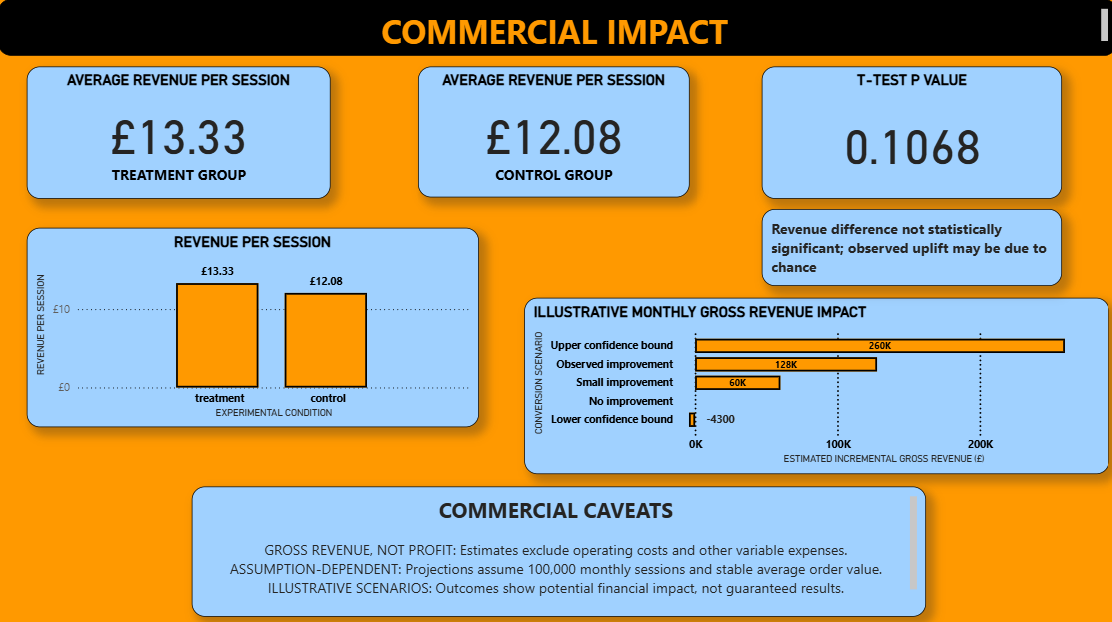

Layout of this report page (visuals, bound fields, positions):
{"tool":"powerbi","page":{"name":"COMMERCIAL IMPACT","canvas":[1280,720],"ordinal":2},"visuals":[{"type":"textbox","box":[0,0,1279.8,65],"z":0},{"type":"card","title":"T-TEST P VALUE","fields":{"Values":["Sum(powerbi_experiment_summary.revenue_p_value)"]},"box":[872.4,77.3,343.6,150.9],"z":1000},{"type":"card","title":"AVERAGE REVENUE PER SESSION","fields":{"Values":["Sum(powerbi_revenue_results.revenue_per_session)"]},"box":[479.8,77.3,310.4,149.7],"z":2000},{"type":"card","title":"AVERAGE REVENUE PER SESSION","fields":{"Values":["Sum(powerbi_revenue_results.revenue_per_session)"]},"box":[33.1,77.3,347.2,150.9],"z":3000},{"type":"clusteredColumnChart","title":"REVENUE PER SESSION","fields":{"Category":["powerbi_revenue_results.variant"],"Y":["Sum(powerbi_revenue_results.revenue_per_session)"]},"box":[33.1,261.4,516.6,228.2],"z":4000},{"type":"clusteredBarChart","title":"ILLUSTRATIVE MONTHLY GROSS REVENUE IMPACT","fields":{"Category":["powerbi_business_scenarios.scenario"],"Y":["Sum(powerbi_business_scenarios.incremental_revenue_monthly)"]},"box":[601.2,341.1,668.7,201.2],"z":5000},{"type":"textbox","box":[220.9,557.1,839.3,148.5],"z":6000},{"type":"textbox","box":[872.4,240.5,343.6,88.3],"z":7000},{"type":"textbox","box":[804.9,466.3,57.7,31.9],"z":8000}]}

Visuals, with their boxes in screenshot pixels (x1, y1, x2, y2), scaled from the page's 1280x720 canvas onto the 1112x622 screenshot:
textbox: box(0, 0, 1111, 56)
"T-TEST P VALUE" card: box(758, 67, 1056, 197)
"AVERAGE REVENUE PER SESSION" card: box(417, 67, 686, 196)
"AVERAGE REVENUE PER SESSION" card: box(29, 67, 330, 197)
"REVENUE PER SESSION" clusteredColumnChart: box(29, 226, 478, 423)
"ILLUSTRATIVE MONTHLY GROSS REVENUE IMPACT" clusteredBarChart: box(522, 295, 1103, 468)
textbox: box(192, 481, 921, 610)
textbox: box(758, 208, 1056, 284)
textbox: box(699, 403, 749, 430)
